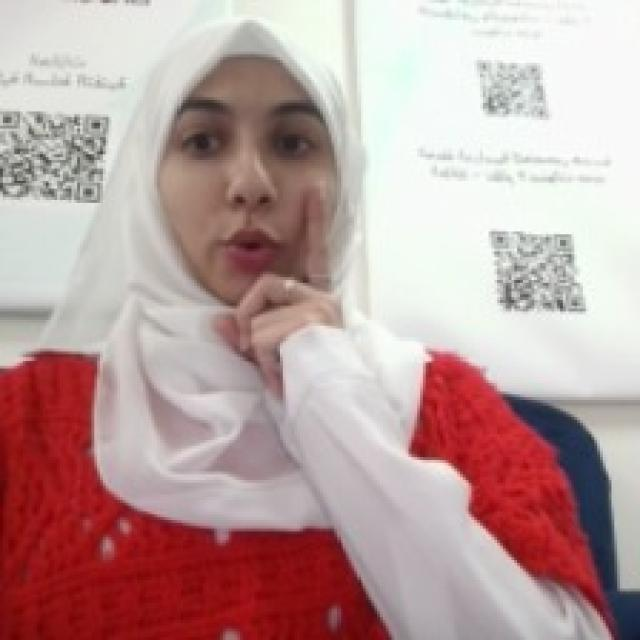mother: (205, 177, 348, 366)
